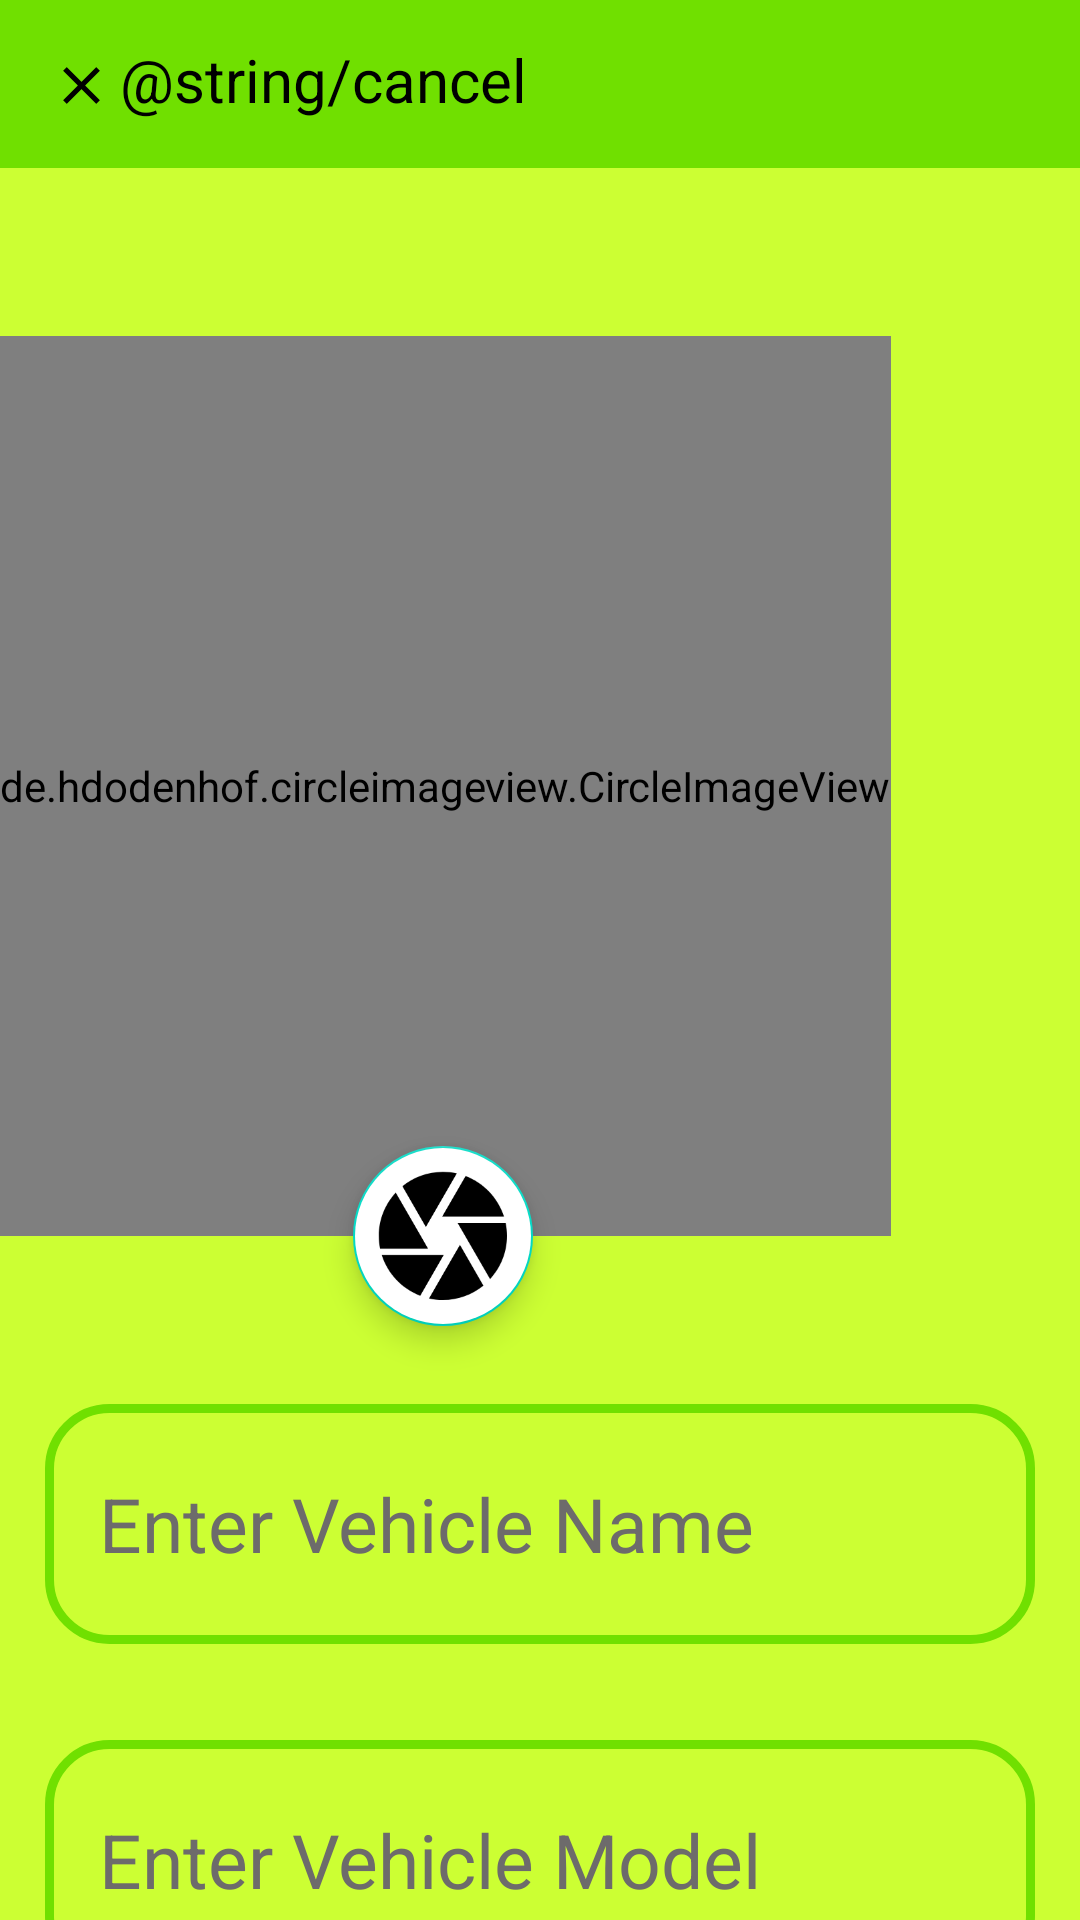

Named icons in this screenshot (1080px×1920px) and their centers, (x,y):
camera: (443,1236)
close: (81,85)
